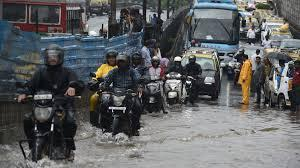helmet: (44, 44, 65, 67), (106, 49, 119, 65), (151, 56, 161, 68), (188, 54, 196, 65), (174, 56, 182, 67)
nohelmet: (294, 60, 300, 70), (241, 54, 248, 62), (255, 56, 261, 65)
